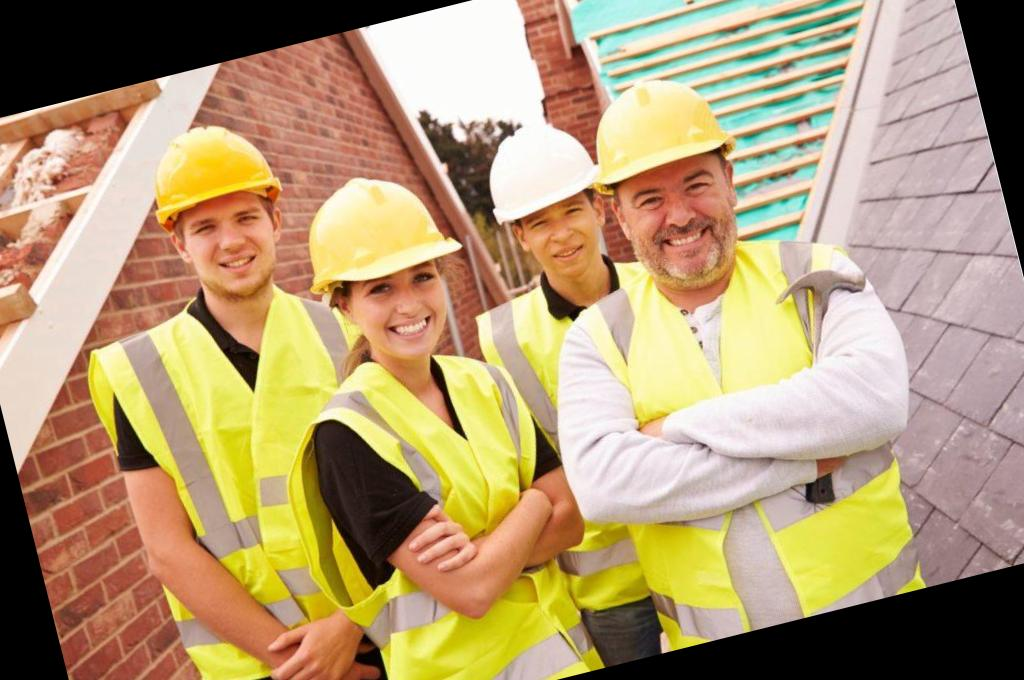Vest: (581, 239, 932, 652), (79, 284, 399, 680), (307, 336, 603, 680)
